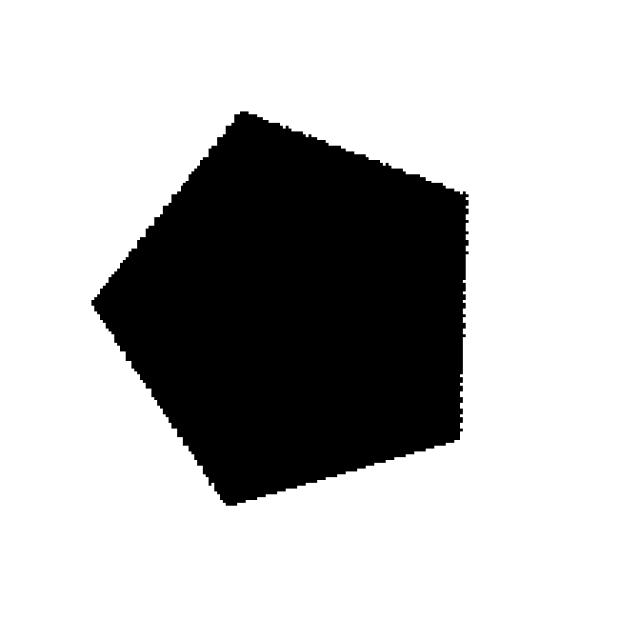Pentagon: (49, 94, 564, 547)
